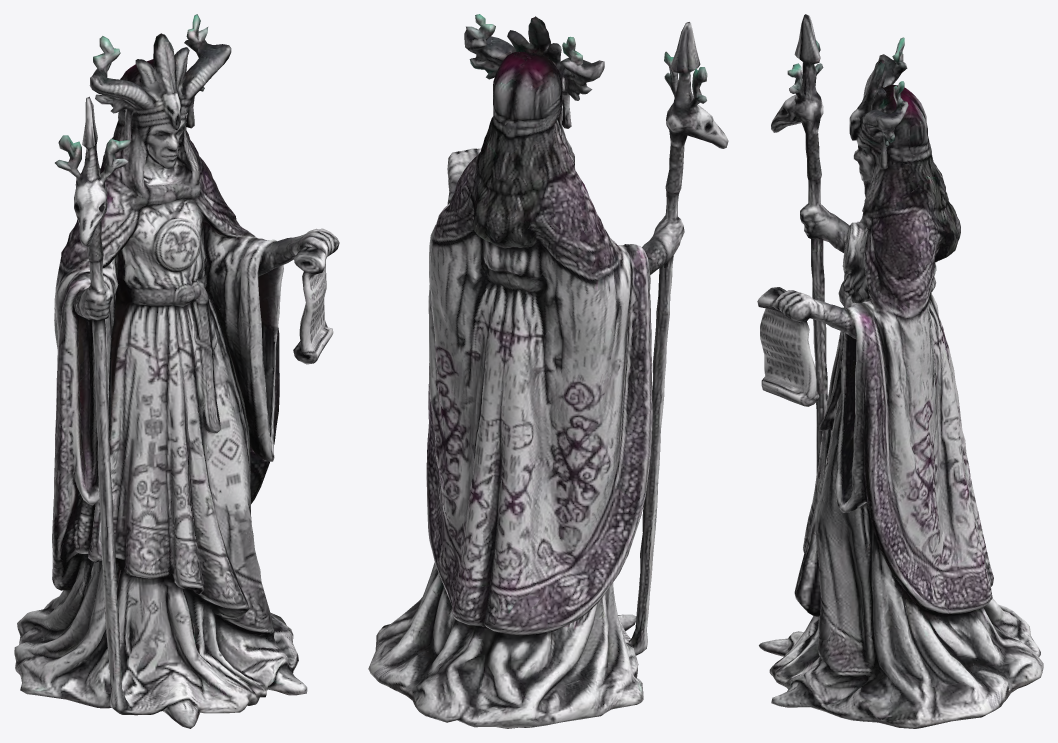
Rendered from Wodan_Fru_Gode.glb.
3 renders of one model, left to right at view 1: azimuth 30°, elevation 25°; view 2: azimuth 150°, elevation 25°; view 3: azimuth 270°, elevation 25°, orthographic. The views are drawn at different scales.
Size of the model in its own units: 0.865 by 1.91 by 0.8141.
Materials: 1 (1 with a texture image).
